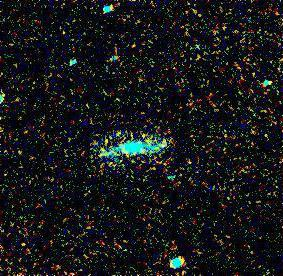star: (174, 147, 204, 177)
